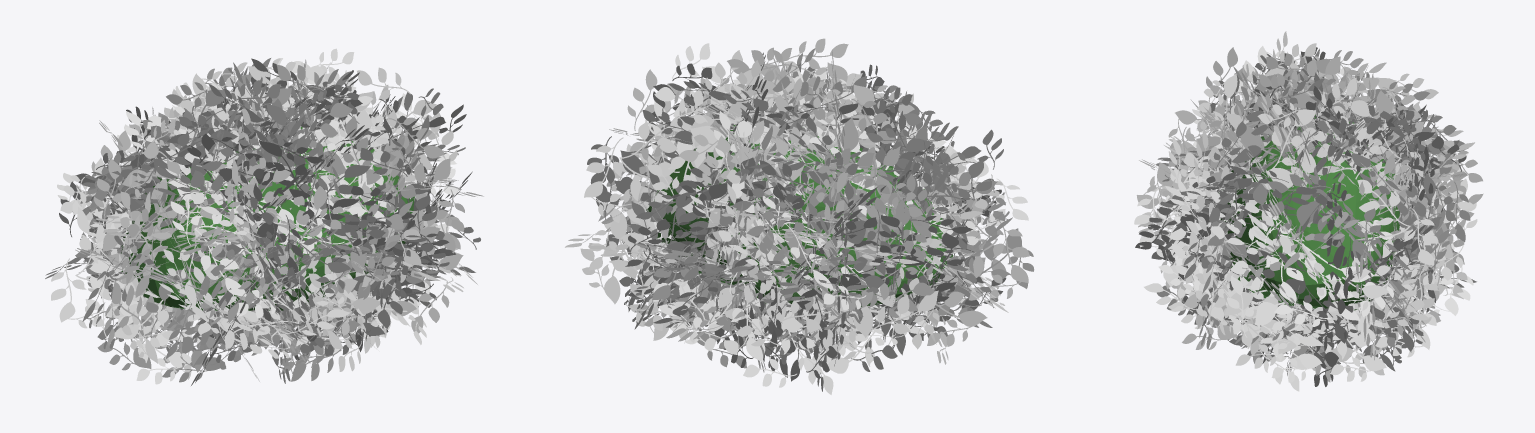
File: Green Bush.fbx
The picture shows the model from 3 angles, left to right: view 1: azimuth 30°, elevation 25°; view 2: azimuth 150°, elevation 25°; view 3: azimuth 270°, elevation 25°; orthographic projection. The views are drawn at different scales.
Visible parts, largest first — view 1: Leaf.100, Green Bush; view 2: Leaf.100, Green Bush; view 3: Leaf.100, Green Bush.
Part boxes in pixels (left/top/right/bottom): Leaf.100: left=45, top=48, right=483, bottom=385; Green Bush: left=121, top=126, right=414, bottom=310; Leaf.100: left=565, top=38, right=1034, bottom=394; Green Bush: left=646, top=124, right=953, bottom=306; Leaf.100: left=1134, top=31, right=1483, bottom=391; Green Bush: left=1218, top=114, right=1399, bottom=310.
Bounding box in the file's own units: 163 × 116 × 134.
